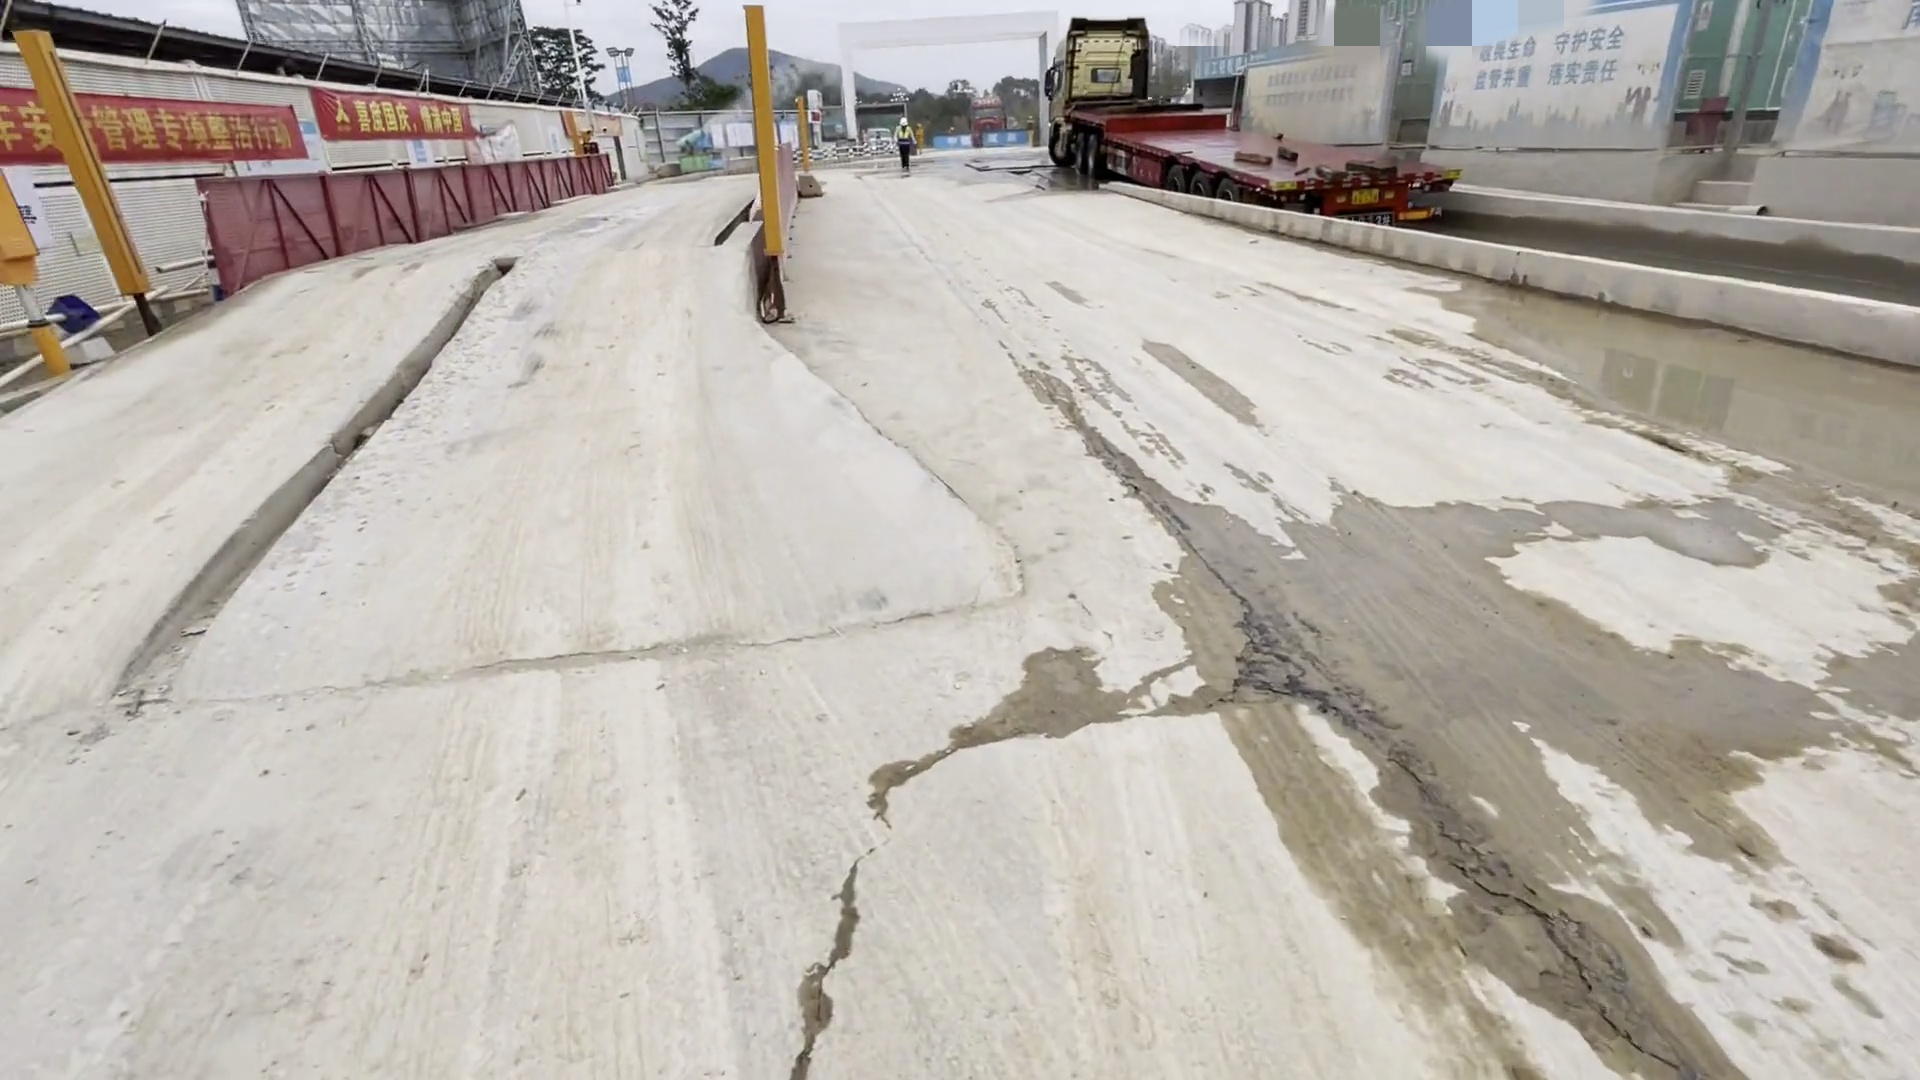fence: (189, 166, 617, 253)
slogan: (1215, 1, 1760, 144), (4, 57, 487, 189)
